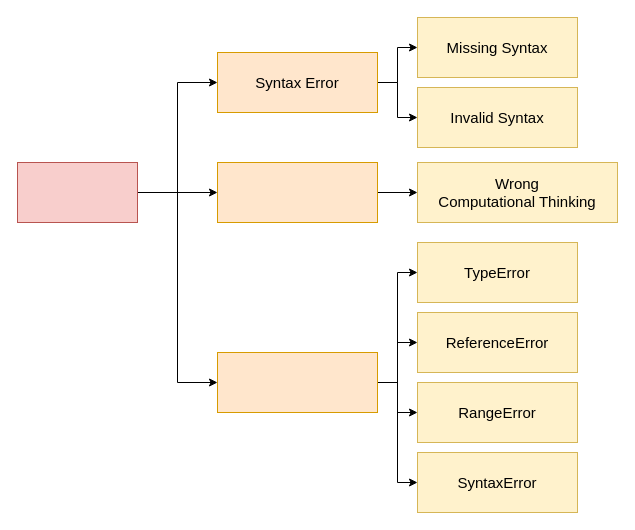
This 635x530 diagram has some shape labels left out. The shapes that lost their labels are listed below. From the top down, each one's box as (x1, y1, x2, y2) in pixels, then its label:
(16, 162, 138, 222): Error
(216, 162, 378, 222): Logic Error
(216, 352, 378, 412): Runtime Error
